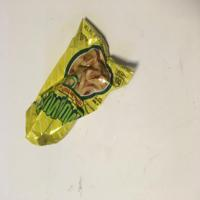plastic: (25, 17, 136, 145)
